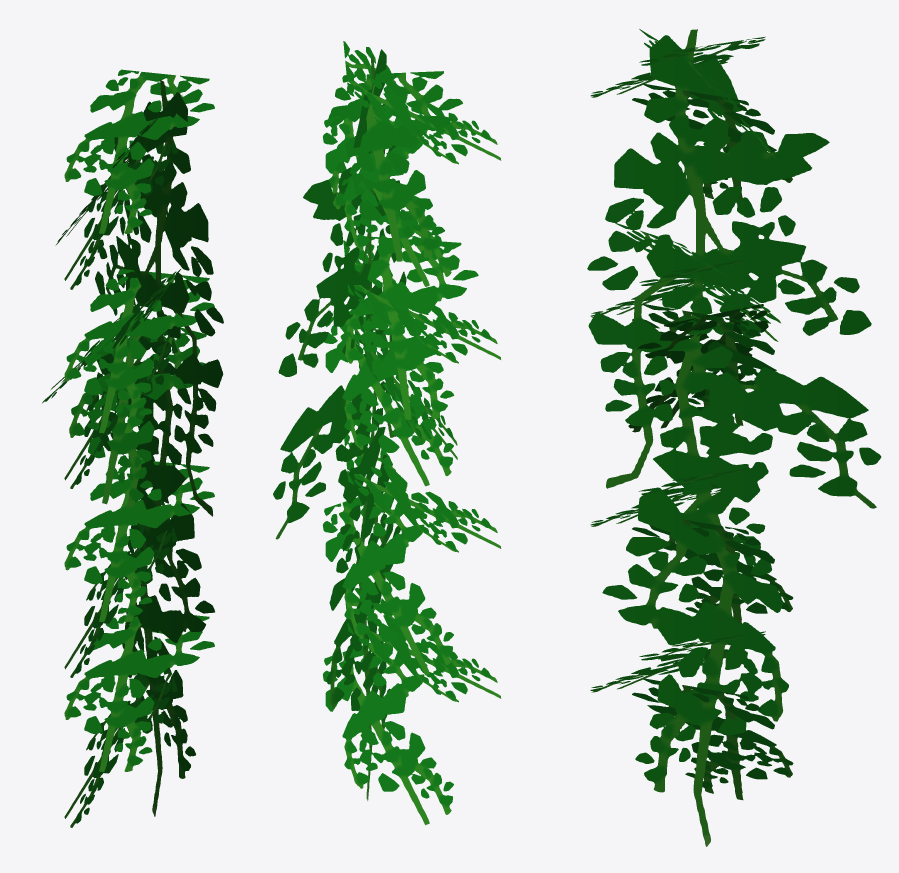
File: Ivy 1.FBX
3 renders of one model, left to right at view 1: azimuth 30°, elevation 25°; view 2: azimuth 150°, elevation 25°; view 3: azimuth 270°, elevation 25°, orthographic. The views are drawn at different scales.
Parts seen in each view (by area): view 1: Plane002; view 2: Plane002; view 3: Plane002.
Boxes of the visible parts, <box> form: Plane002: <box>42,69,223,827</box>; Plane002: <box>273,41,501,824</box>; Plane002: <box>587,29,881,846</box>.
Size of the model in its own units: 6 by 21.11 by 8.13.
